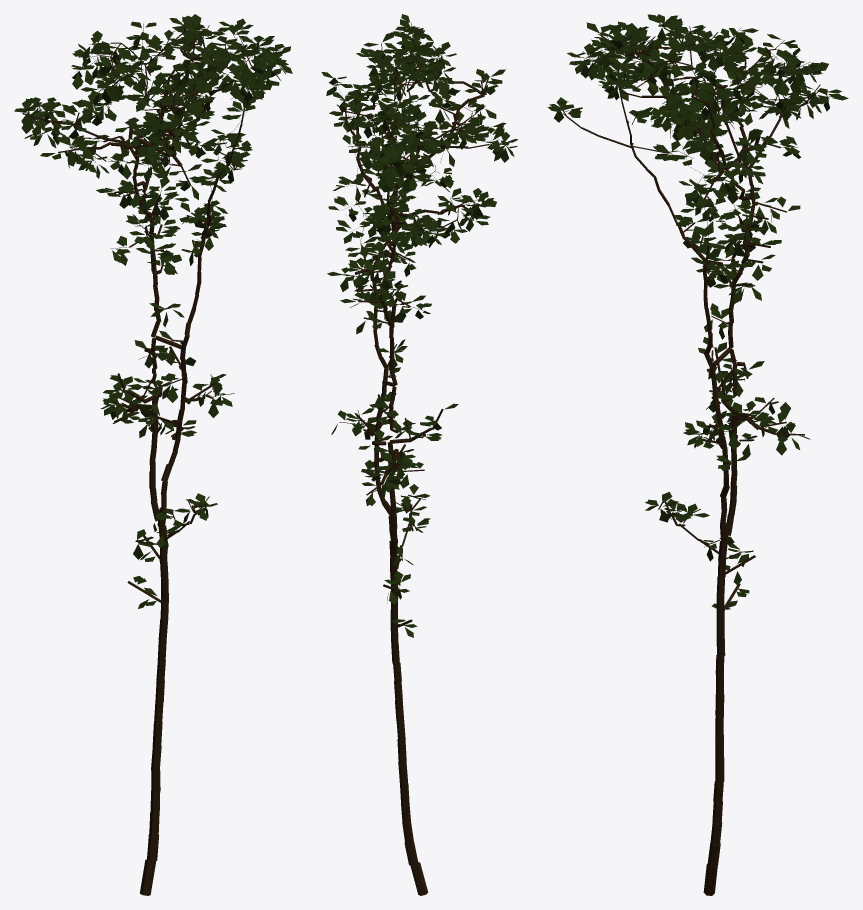
File: 2022_tree_303.obj
3 views of the same model, side by side, from view 1: azimuth 30°, elevation 25°; view 2: azimuth 150°, elevation 25°; view 3: azimuth 270°, elevation 25° (orthographic). The views are drawn at different scales.
Parts seen in each view (by area): view 1: Leaves, TrunkAndBranches; view 2: Leaves, TrunkAndBranches; view 3: Leaves, TrunkAndBranches.
Boxes of the visible parts, x1,y1,x2,y2 form: Leaves: (14, 14, 292, 608); TrunkAndBranches: (22, 23, 273, 895); Leaves: (321, 14, 518, 637); TrunkAndBranches: (337, 23, 507, 895); Leaves: (547, 14, 848, 609); TrunkAndBranches: (562, 23, 829, 895).
Bounding box in the file's own units: 4.13 × 15.79 × 4.82.
